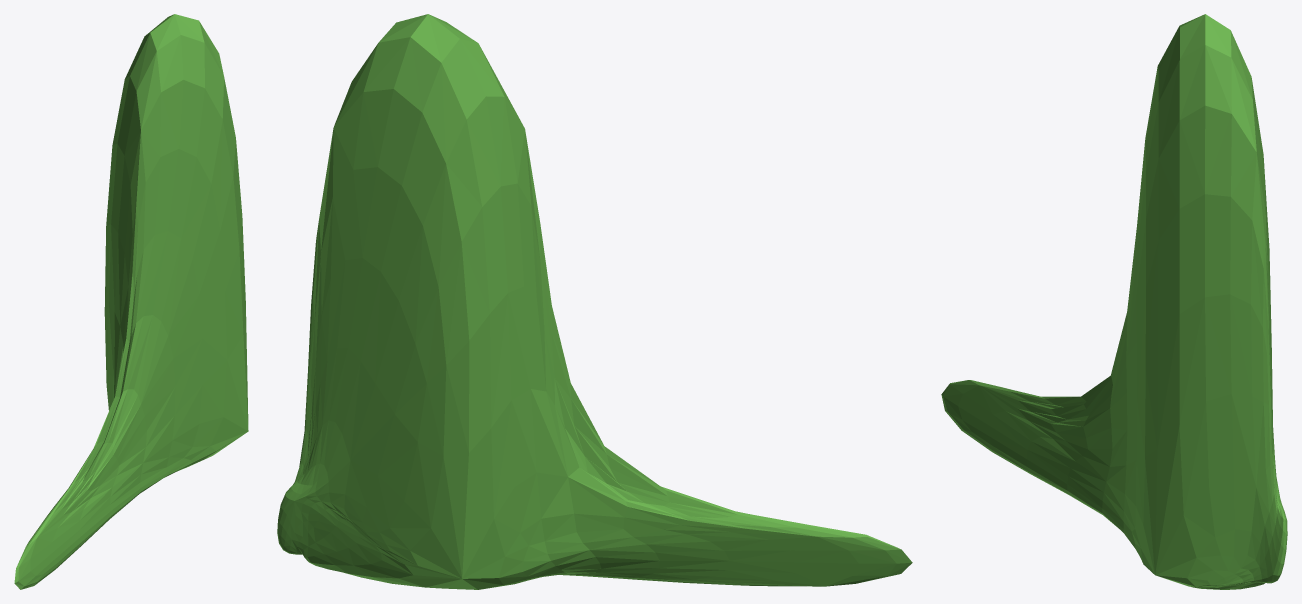
The picture shows the model from 3 angles, left to right: view 1: azimuth 30°, elevation 25°; view 2: azimuth 150°, elevation 25°; view 3: azimuth 270°, elevation 25°; orthographic projection. The views are drawn at different scales.
Visible parts, largest first — view 1: 969_Cube.3918; view 2: 969_Cube.3918; view 3: 969_Cube.3918.
Boxes of the visible parts, left/top/right/bottom form: 969_Cube.3918: left=14, top=14, right=248, bottom=589; 969_Cube.3918: left=277, top=14, right=912, bottom=589; 969_Cube.3918: left=941, top=14, right=1287, bottom=589.
Bounding box in the file's own units: 9.6 × 11.73 × 6.51.
